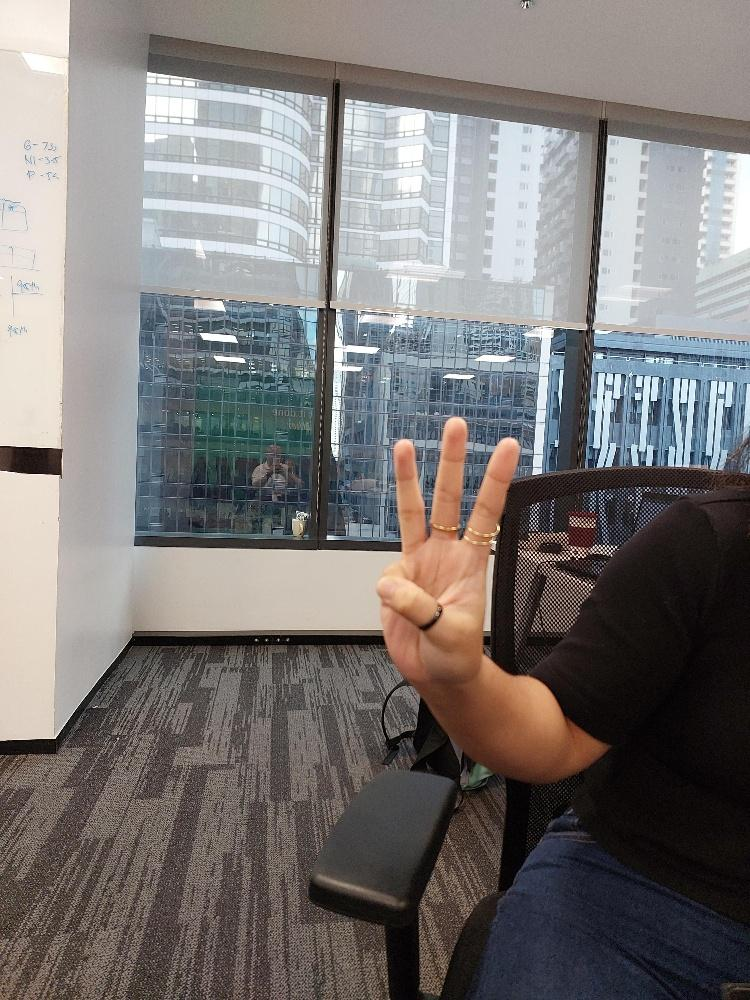w: (374, 413, 524, 689)
